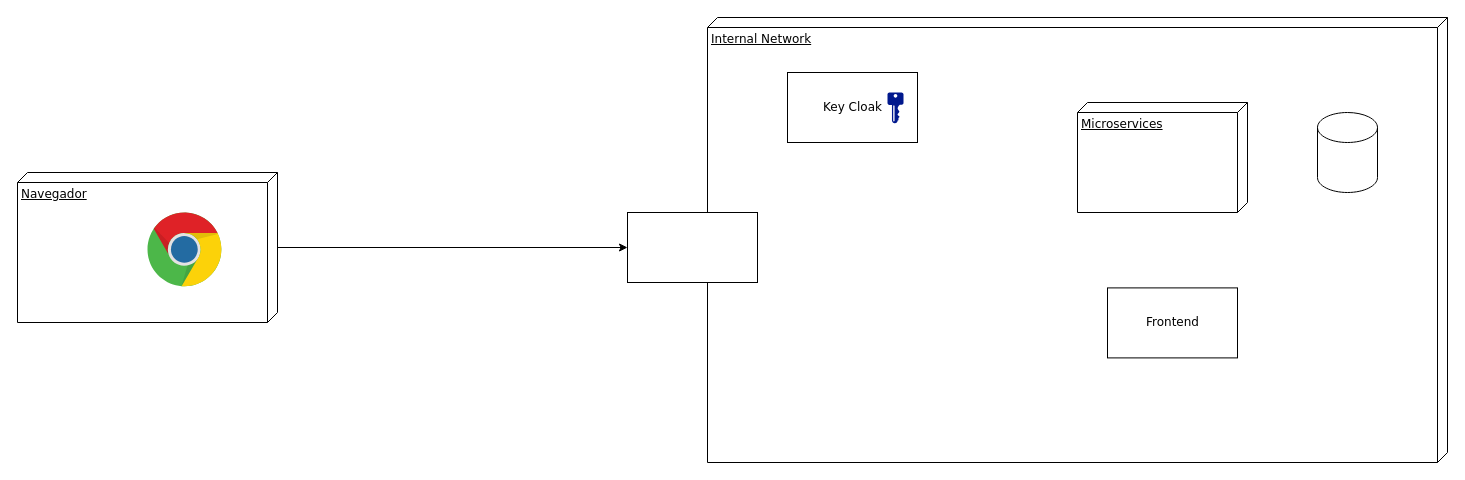
Some shapes in this 1465 by 480 pixel diagram are drawn without their labels. The centre of each missing label's shape, as x and y in pixels:
"API Gateway" goes at point (692, 247).
"database" goes at point (1347, 152).
